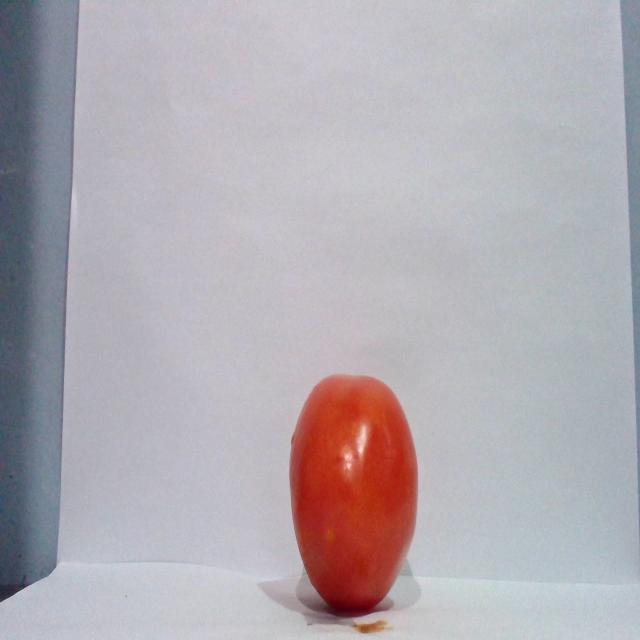Red: (287, 372, 419, 614)
